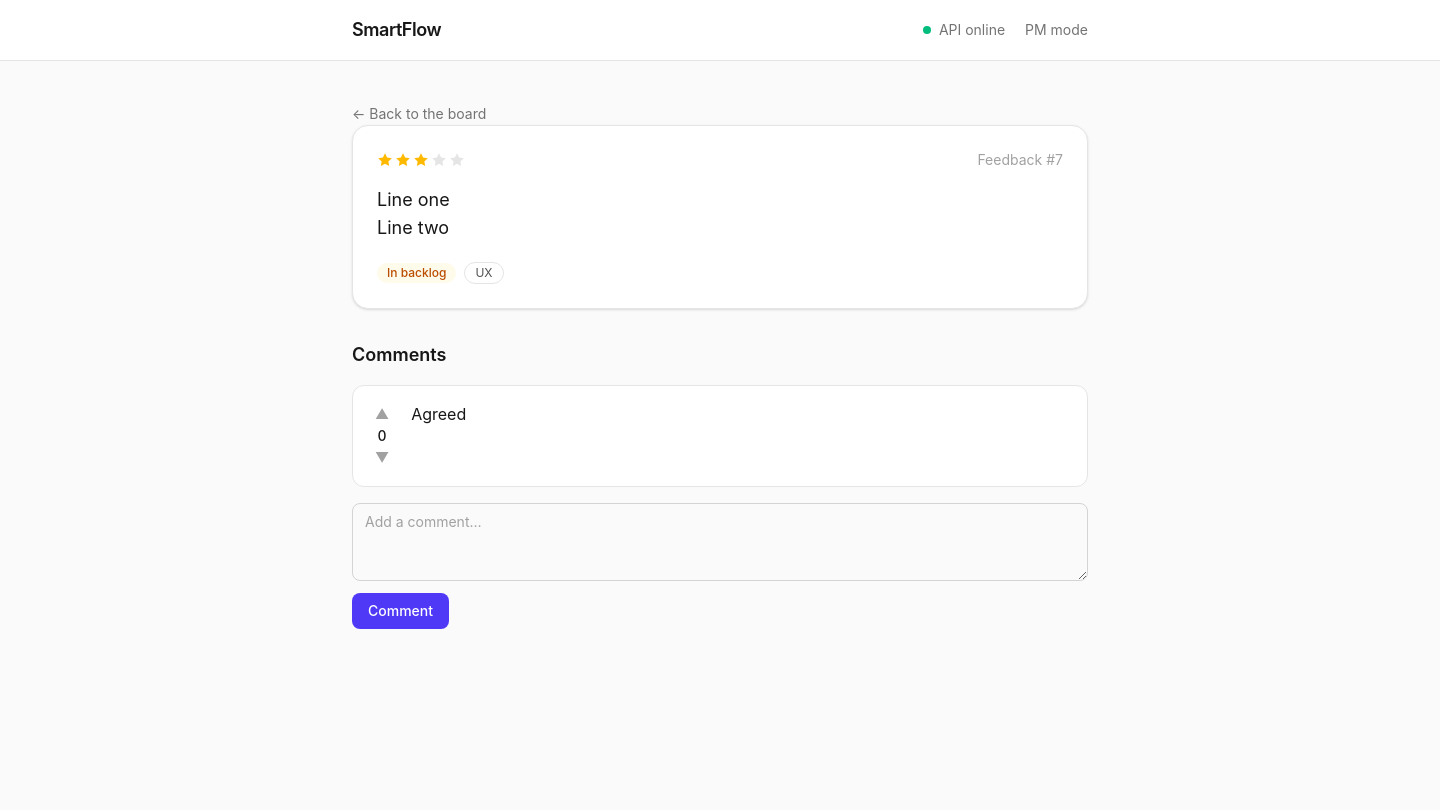
Test: Change your vote (spec 012) › AC-1..5: ▲ and ▼ step the vote between -1 and +1, as the same user
Click the button named "Upvote" at (382,414), box [369,402,395,426]
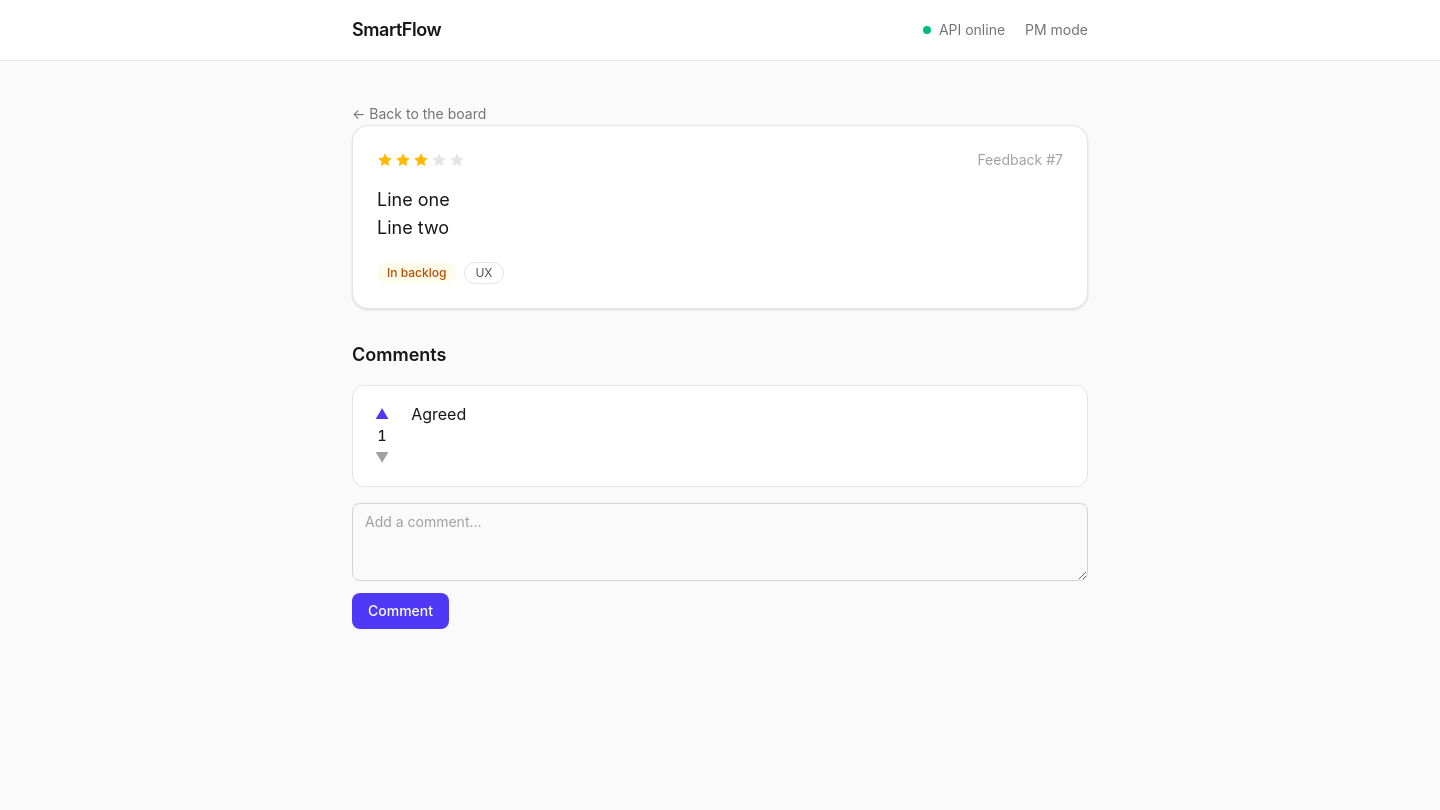
Now the text named "Score 1" is shown, box [378,426,387,446]
Now the button named "Upvote" is disabled, box [369,402,395,426]
Click the button named "Downvote" at (382,458), box [369,446,395,470]
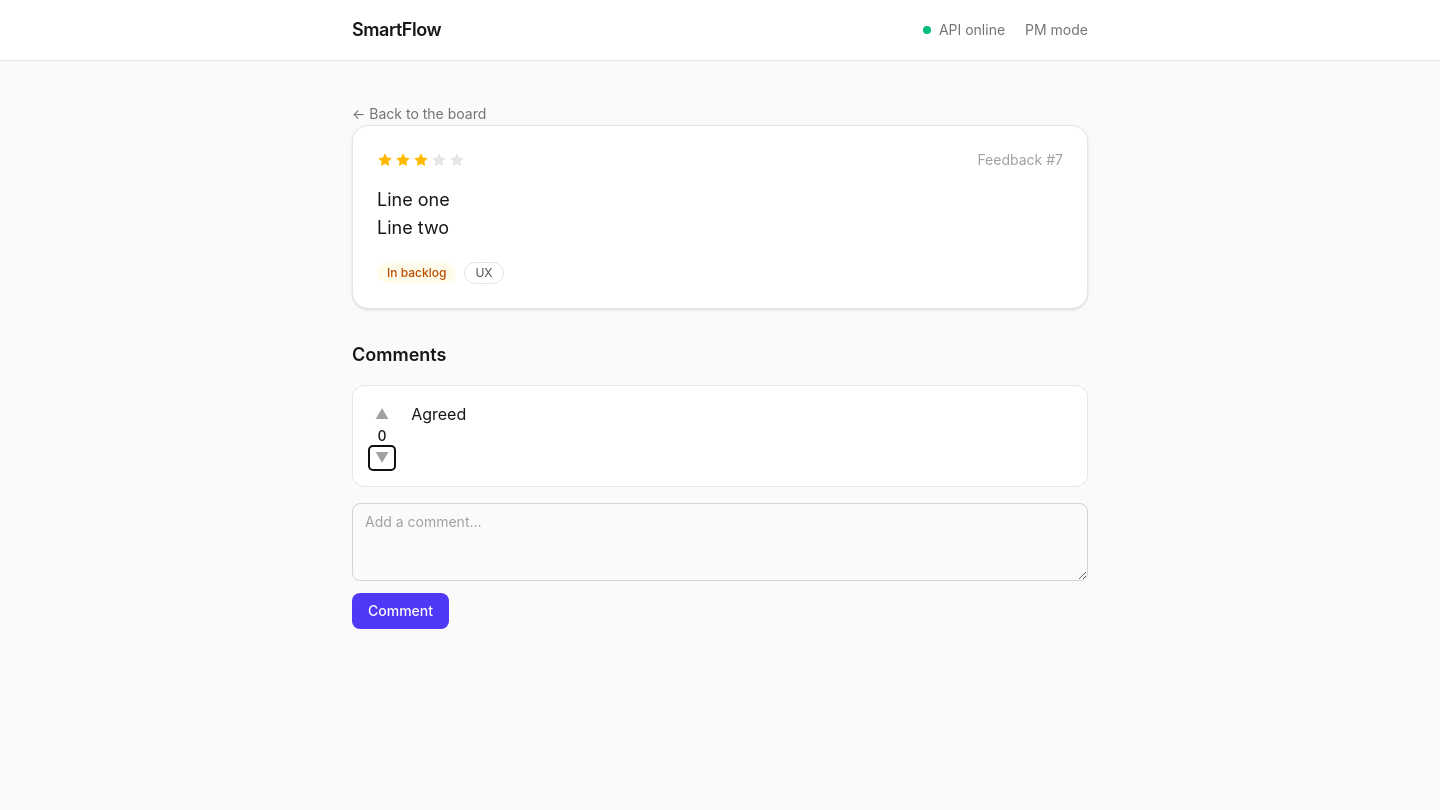
Now the text named "Score 0" is shown, box [378,426,387,446]
Now the button named "Upvote" is enabled, box [369,402,395,426]
Click the button named "Downvote" at (382,458), box [369,446,395,470]
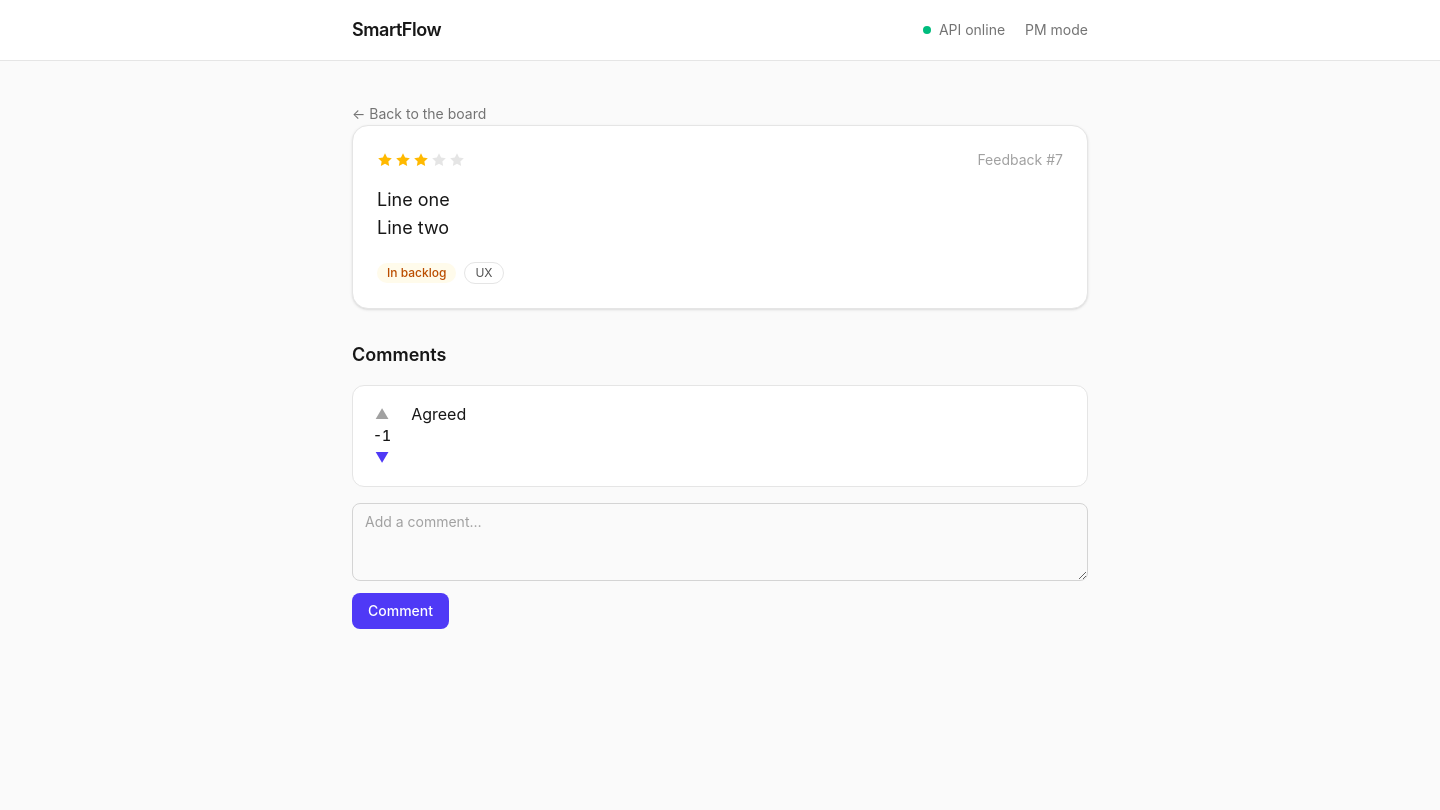
Now the text named "Score -1" is shown, box [373,426,391,446]
Now the button named "Downvote" is disabled, box [369,446,395,470]
Click the button named "Upvote" at (382,414), box [369,402,395,426]
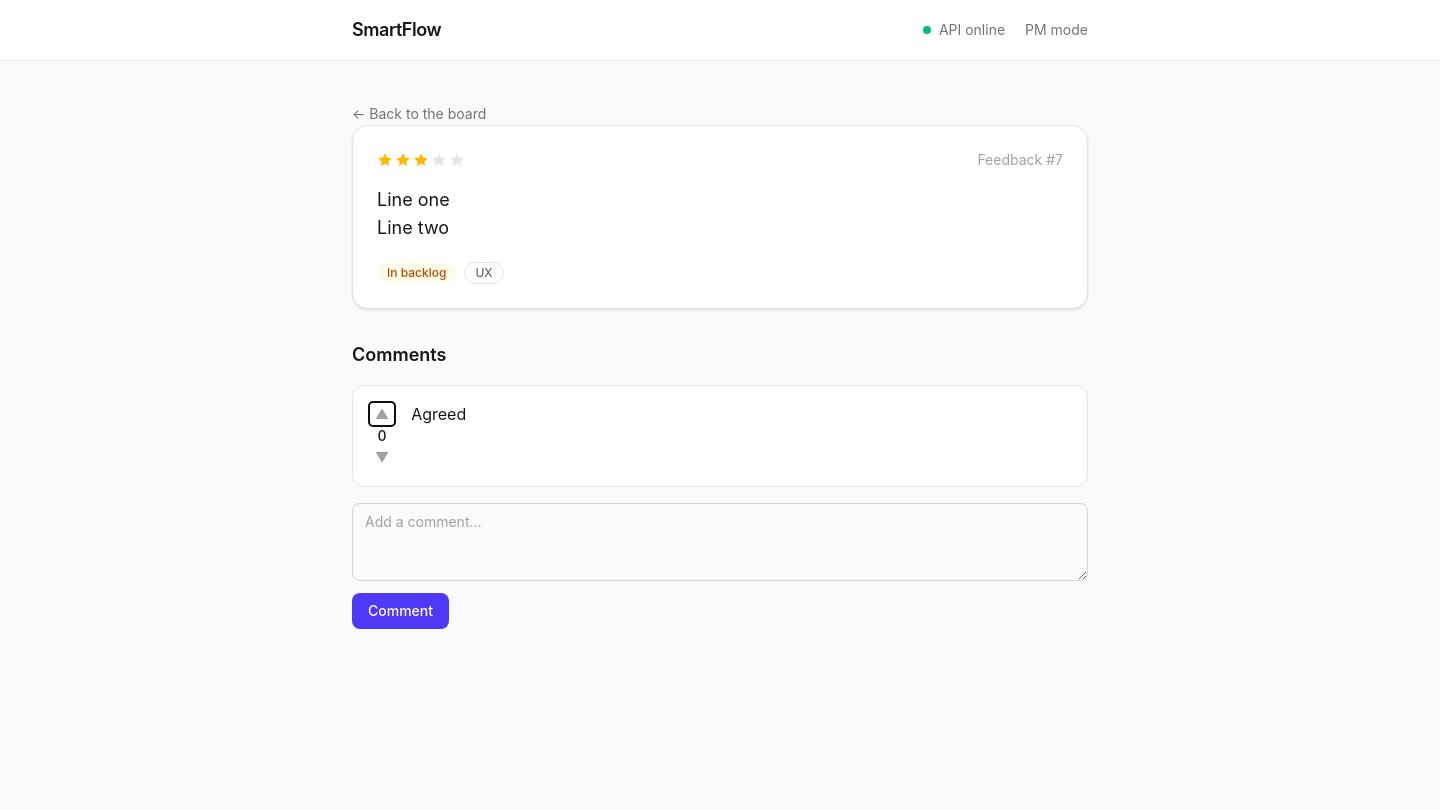
Now the text named "Score 0" is shown, box [378,426,387,446]
